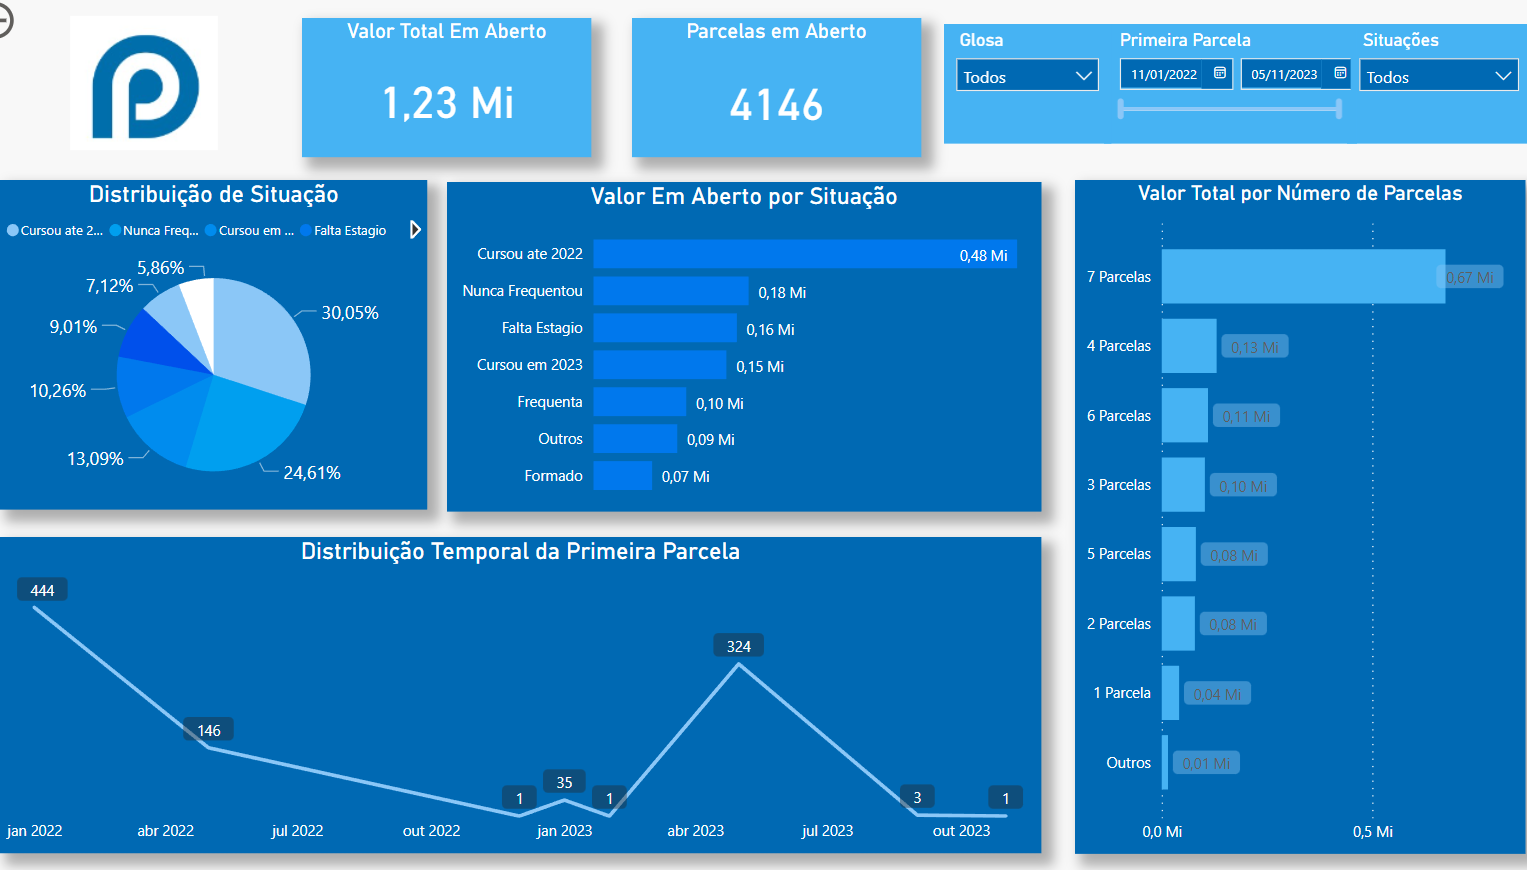

The page's visual inventory and layout, read from the dashboard file:
{"tool":"powerbi","page":{"name":"Page 1","canvas":[1280,720],"ordinal":0},"visuals":[{"type":"card","title":"Valor Total Em Aberto","fields":{"Values":["Sum(glosaGeral.VALOR_TOTAL_ABERTO)"]},"box":[243,17.7,236.7,114.4],"z":0},{"type":"card","title":"Parcelas em Aberto","fields":{"Values":["Sum(glosaGeral.NUM_PARCELAS_EM_ABERTO)"]},"box":[501.9,17.7,236.7,114.4],"z":1000},{"type":"pieChart","title":"Distribuição de Situação ","fields":{"Category":["glosaGeral.OBSERVACAO (grupos)"],"Y":["CountNonNull(glosaGeral.OBSERVACAO (grupos))"]},"box":[23.9,150.7,350.2,270.4],"z":2000},{"type":"barChart","title":"Valor Em Aberto por Situação ","fields":{"Y":["Sum(glosaGeral.VALOR_TOTAL_ABERTO)"],"Category":["glosaGeral.OBSERVACAO (grupos)"]},"box":[390.1,152.5,486.8,270.4],"z":3000},{"type":"lineChart","title":"Distribuição Temporal da Primeira Parcela","fields":{"Y":["CountNonNull(glosaGeral.PRIMEIRA_PARCELA)"],"Category":["glosaGeral.PRIMEIRA_PARCELA.Variation.Date Hierarchy.Year","glosaGeral.PRIMEIRA_PARCELA.Variation.Date Hierarchy.Month"]},"box":[23.9,443.3,853,258.9],"z":4000},{"type":"barChart","title":"Valor Total por Númerode Parcelas","fields":{"Y":["Sum(glosaGeral.VALOR_TOTAL_ABERTO)"],"Category":["glosaGeral.NUM_PARCELAS_EM_ABERTO (grupos)"]},"box":[904.4,150.7,368.9,551.5],"z":5000},{"type":"slicer","fields":{"Values":["glosaGeral.OBSERVACAO (grupos)"]},"box":[1122.6,23.1,150.7,85.1],"z":6000},{"type":"slicer","fields":{"Values":["glosaGeral.PRIMEIRA_PARCELA"]},"box":[904.4,23.1,207.5,85.1],"z":7000},{"type":"actionButton","box":[0,0,100,40],"z":8000},{"type":"slicer","fields":{"Values":["glosaGeral.GLOSA (grupos)"]},"box":[753.7,23.1,137.4,85.1],"z":9000},{"type":"image","box":[68.3,14.2,121.5,121.5],"z":10000}]}

Visuals, with their boxes in screenshot pixels (x1, y1, x2, y2), scaled from the page's 1280x720 canvas onto the 1527x870 screenshot:
"Valor Total Em Aberto" card: 290/21/572/160
"Parcelas em Aberto" card: 599/21/881/160
"Distribuição de Situação " pieChart: 29/182/446/509
"Valor Em Aberto por Situação " barChart: 465/184/1046/511
"Distribuição Temporal da Primeira Parcela" lineChart: 29/536/1046/848
"Valor Total por Númerode Parcelas" barChart: 1079/182/1519/848
slicer - glosaGeral.OBSERVACAO (grupos): 1339/28/1519/131
slicer - glosaGeral.PRIMEIRA_PARCELA: 1079/28/1326/131
actionButton: 0/0/119/48
slicer - glosaGeral.GLOSA (grupos): 899/28/1063/131
image: 81/17/226/164
